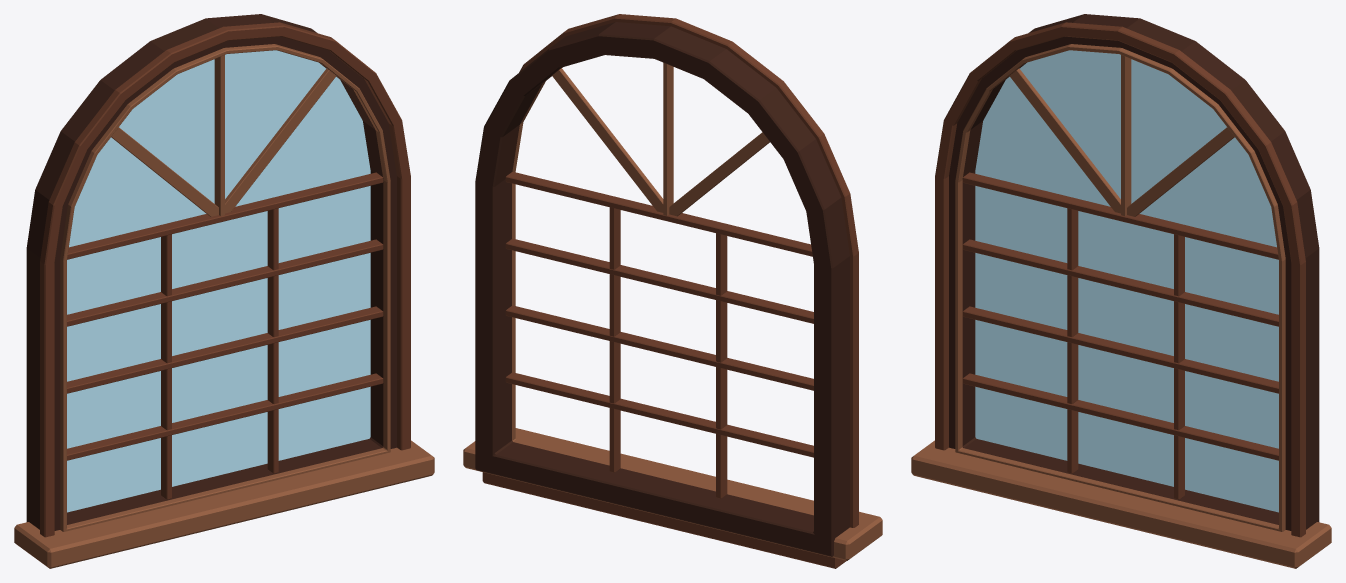
Rendered from window_12.glb.
The picture shows the model from 3 angles, left to right: view 1: azimuth 30°, elevation 25°; view 2: azimuth 150°, elevation 25°; view 3: azimuth 330°, elevation 25°; orthographic projection.
Parts seen in each view (by area): view 1: Glass, Deep_frame, Raised_moulding, Sill, Inner_bead, Transom_3, Transom_1, Transom_2, Transom_4, Mullion_2, Mullion_1, Fan_ray_1 (+2 smaller); view 2: Deep_frame, Raised_moulding, Sill, Sill_apron, Transom_1, Transom_3, Transom_2, Transom_4, Mullion_2, Mullion_1, Inner_bead, Fan_ray_1 (+2 smaller); view 3: Glass, Deep_frame, Raised_moulding, Sill, Inner_bead, Transom_3, Transom_1, Transom_2, Transom_4, Mullion_1, Mullion_2, Fan_ray_3 (+2 smaller).
Boxes of the visible parts, left/top/right/bottom form: Glass: left=67, top=50, right=370, bottom=512; Deep_frame: left=26, top=14, right=396, bottom=530; Raised_moulding: left=40, top=22, right=410, bottom=537; Sill: left=14, top=440, right=434, bottom=568; Inner_bead: left=60, top=44, right=390, bottom=531; Transom_3: left=67, top=239, right=383, bottom=326; Transom_1: left=67, top=373, right=383, bottom=460; Transom_2: left=67, top=306, right=383, bottom=393; Transom_4: left=67, top=172, right=383, bottom=259; Mullion_2: left=267, top=208, right=278, bottom=473; Mullion_1: left=161, top=234, right=171, bottom=499; Fan_ray_1: left=218, top=68, right=336, bottom=214; Deep_frame: left=475, top=22, right=849, bottom=556; Raised_moulding: left=519, top=14, right=858, bottom=527; Sill: left=463, top=428, right=882, bottom=560; Sill_apron: left=482, top=472, right=846, bottom=568; Transom_1: left=505, top=372, right=813, bottom=457; Transom_3: left=505, top=238, right=813, bottom=323; Transom_2: left=505, top=305, right=813, bottom=390; Transom_4: left=505, top=171, right=812, bottom=256; Mullion_2: left=609, top=207, right=620, bottom=472; Mullion_1: left=716, top=233, right=727, bottom=498; Inner_bead: left=512, top=67, right=813, bottom=515; Fan_ray_1: left=552, top=68, right=663, bottom=212; Glass: left=975, top=50, right=1278, bottom=512; Deep_frame: left=949, top=14, right=1319, bottom=530; Raised_moulding: left=935, top=22, right=1305, bottom=537; Sill: left=911, top=440, right=1331, bottom=568; Inner_bead: left=955, top=44, right=1285, bottom=531; Transom_3: left=962, top=239, right=1278, bottom=326; Transom_1: left=962, top=373, right=1278, bottom=460; Transom_2: left=962, top=306, right=1278, bottom=393; Transom_4: left=962, top=172, right=1278, bottom=259; Mullion_1: left=1067, top=208, right=1078, bottom=473; Mullion_2: left=1174, top=234, right=1184, bottom=499; Fan_ray_3: left=1009, top=68, right=1127, bottom=214.
Bounding box in the file's own units: 2.42 × 2.97 × 0.405.
